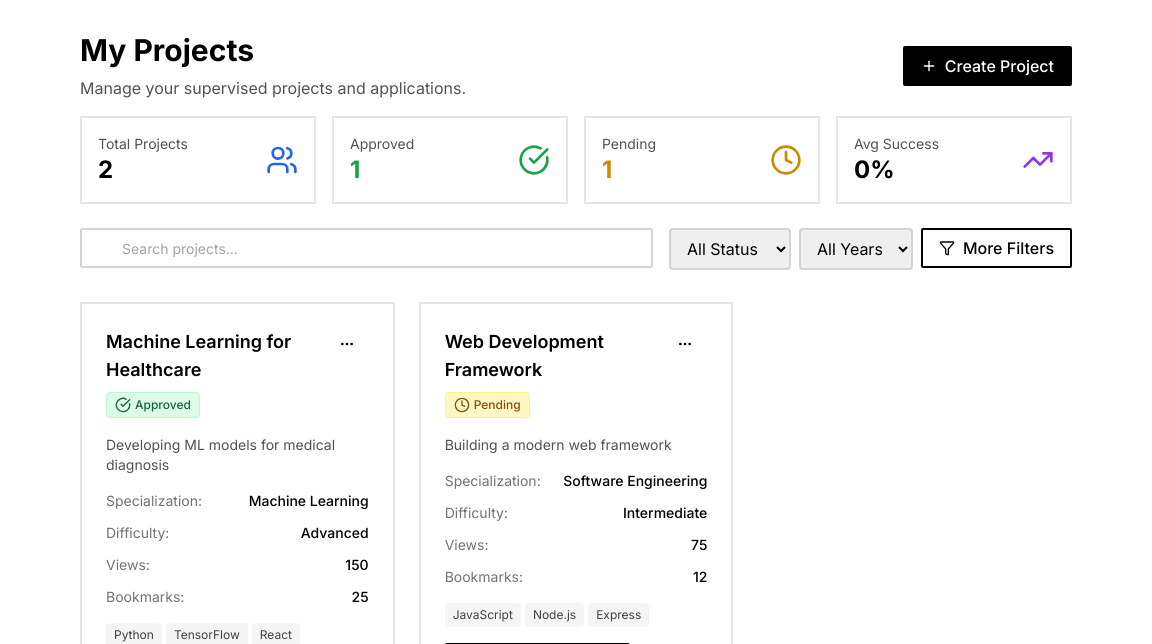
Test case: SupervisorProjectsPage › should filter projects by search query
Expected: the heading "Machine Learning for Healthcare" is shown, [106,331,291,380]
# Search for "machine learning"
Type "machine learning" into the field with placeholder "Search projects...".
click(366, 248); type("machine learning")  # box [80,228,653,268]
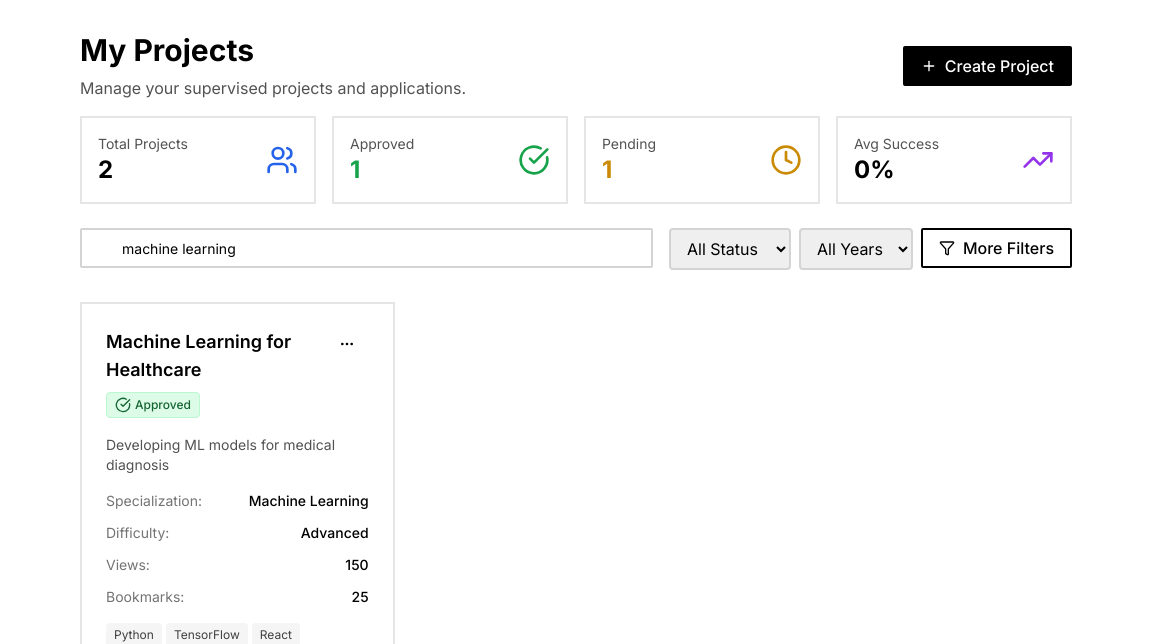
Expected: the heading "Machine Learning for Healthcare" is shown, [106,331,291,380]
Expected: the heading "Web Development Framework" is gone
